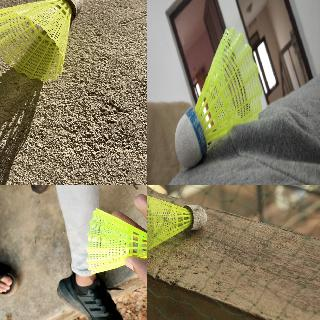shuttlecock: (175, 27, 262, 166), (0, 0, 82, 82), (86, 208, 146, 274), (147, 191, 207, 253)
